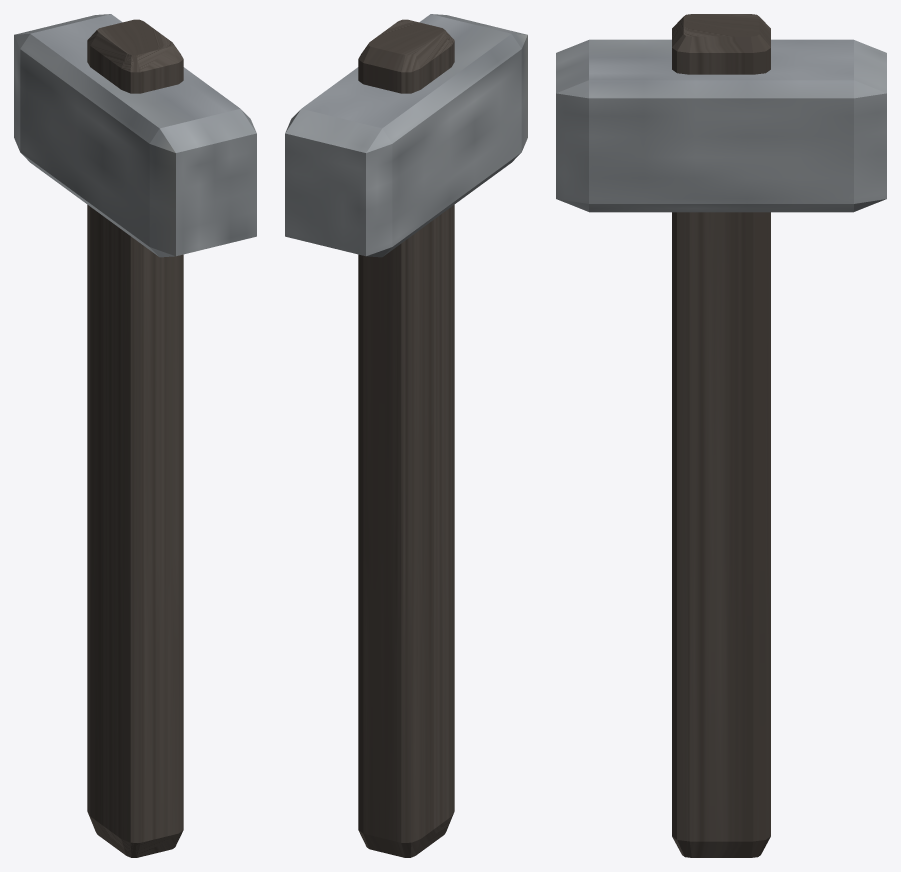
The model's file is Hammer.fbx.
3 views of the same model, side by side, from view 1: azimuth 30°, elevation 25°; view 2: azimuth 150°, elevation 25°; view 3: azimuth 270°, elevation 25° (orthographic). The views are drawn at different scales.
Visible parts, largest first — view 1: Cube, Cube.001; view 2: Cube, Cube.001; view 3: Cube, Cube.001.
Part boxes in pixels (box(x1,y1,x2,y2)): Cube: box(87, 19, 183, 857); Cube.001: box(14, 14, 256, 257); Cube: box(358, 19, 454, 857); Cube.001: box(285, 14, 527, 257); Cube: box(672, 14, 770, 857); Cube.001: box(556, 39, 886, 212).
Bounding box in the file's own units: 66.74 × 505 × 185.
Materials: 2 (2 with a texture image).
